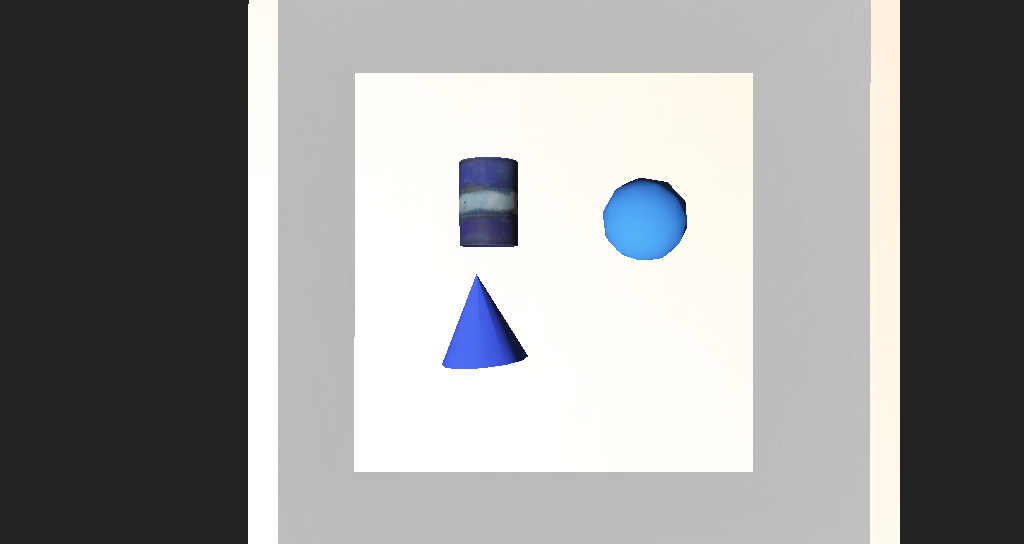cone: (435, 205, 482, 253)
cylinder: (397, 270, 492, 322)
sphere: (542, 222, 603, 265)
